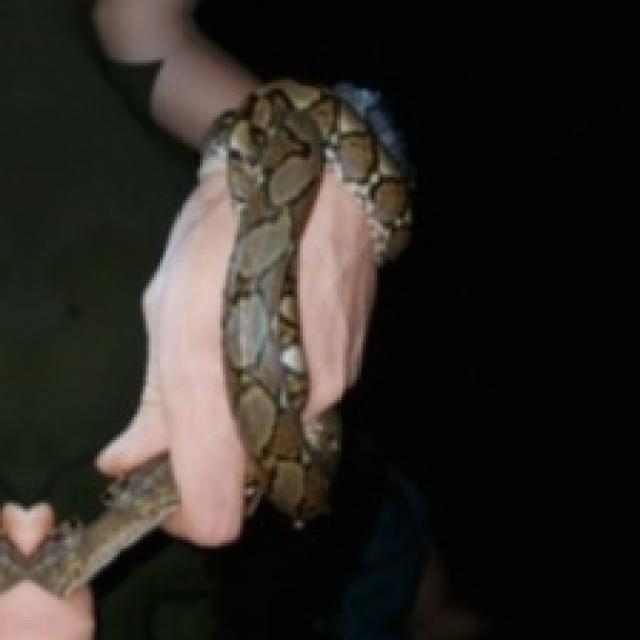reticulated python: (201, 81, 410, 526), (0, 456, 176, 593)
